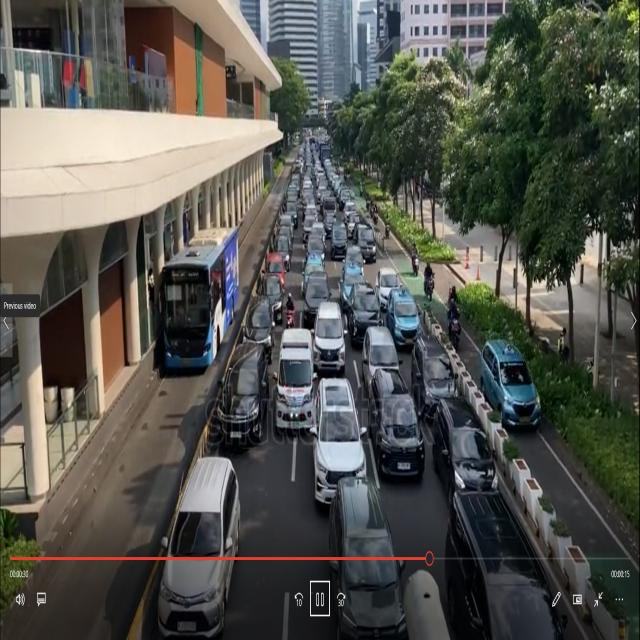Ambulance: (271, 319, 317, 439)
